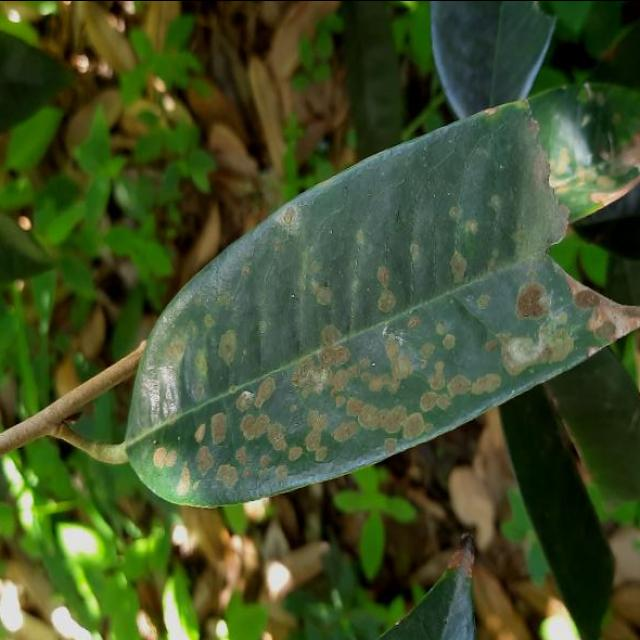Algal Leaf Spot: (98, 85, 640, 529)
